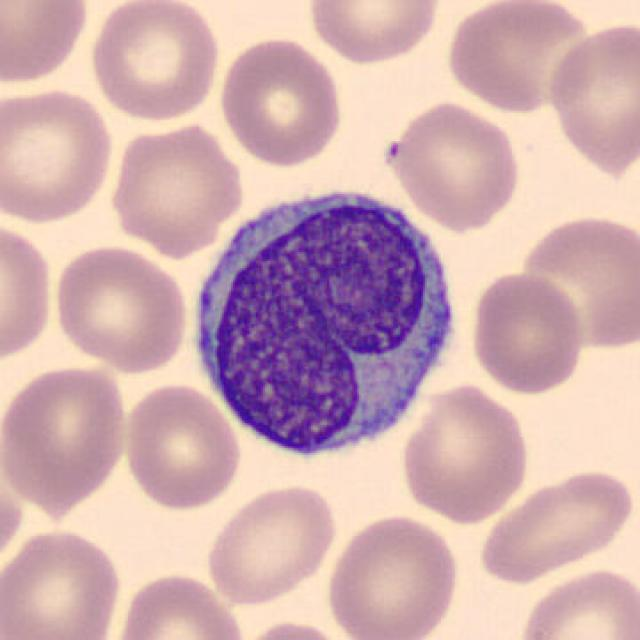Monocyte: (181, 175, 466, 472)
RBC: (396, 379, 534, 525), (105, 118, 247, 259), (0, 360, 130, 513), (378, 97, 524, 233), (474, 464, 636, 585), (50, 242, 190, 376), (215, 34, 347, 170), (441, 0, 597, 115), (514, 208, 636, 354), (324, 511, 462, 640), (201, 482, 339, 606), (85, 0, 222, 123), (0, 83, 117, 226), (119, 381, 245, 513), (468, 268, 588, 397), (542, 18, 638, 178), (0, 525, 124, 639), (108, 569, 249, 640), (302, 0, 444, 67), (514, 564, 638, 640), (0, 217, 57, 367), (0, 0, 92, 88), (235, 617, 352, 640)
